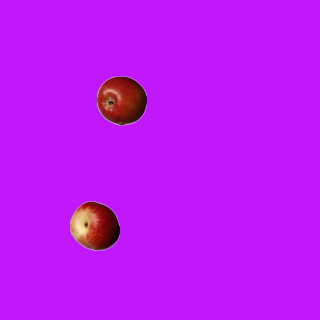Apple Braeburn: (96, 75, 146, 125)
Nectarine: (69, 200, 119, 250)
